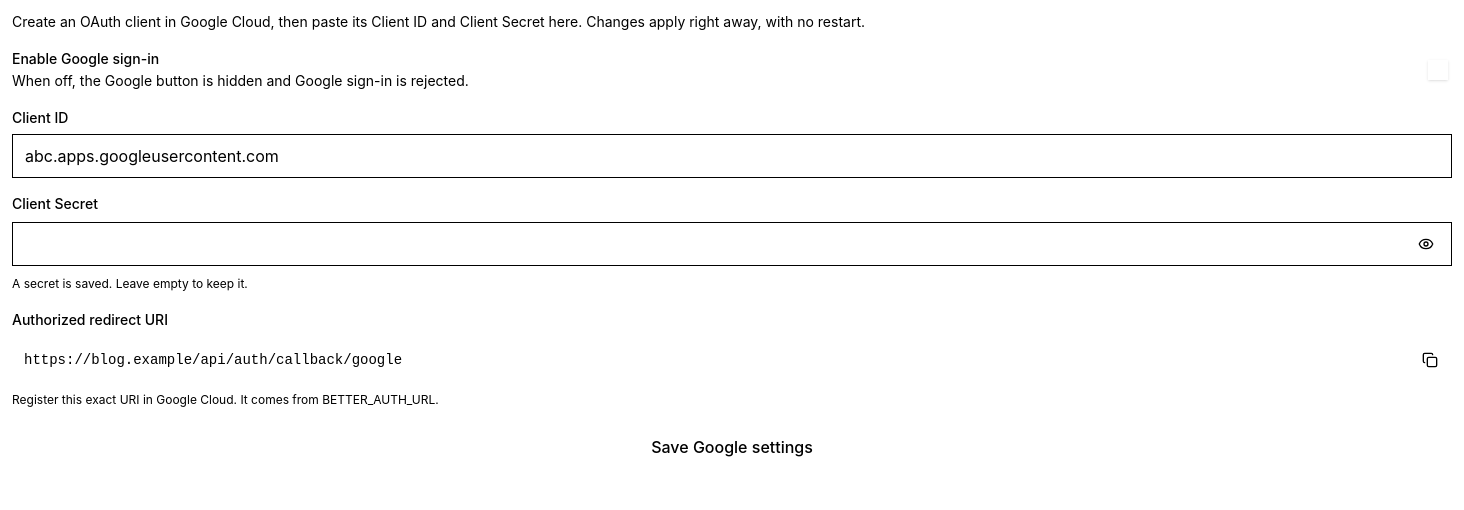
Test case: GoogleSignInSettingsForm › Given a typed secret, should send it then clear the input
Type "GOCSPX-secret" into the password field labelled "Client Secret" at (732, 244), box [12,222,1452,266]
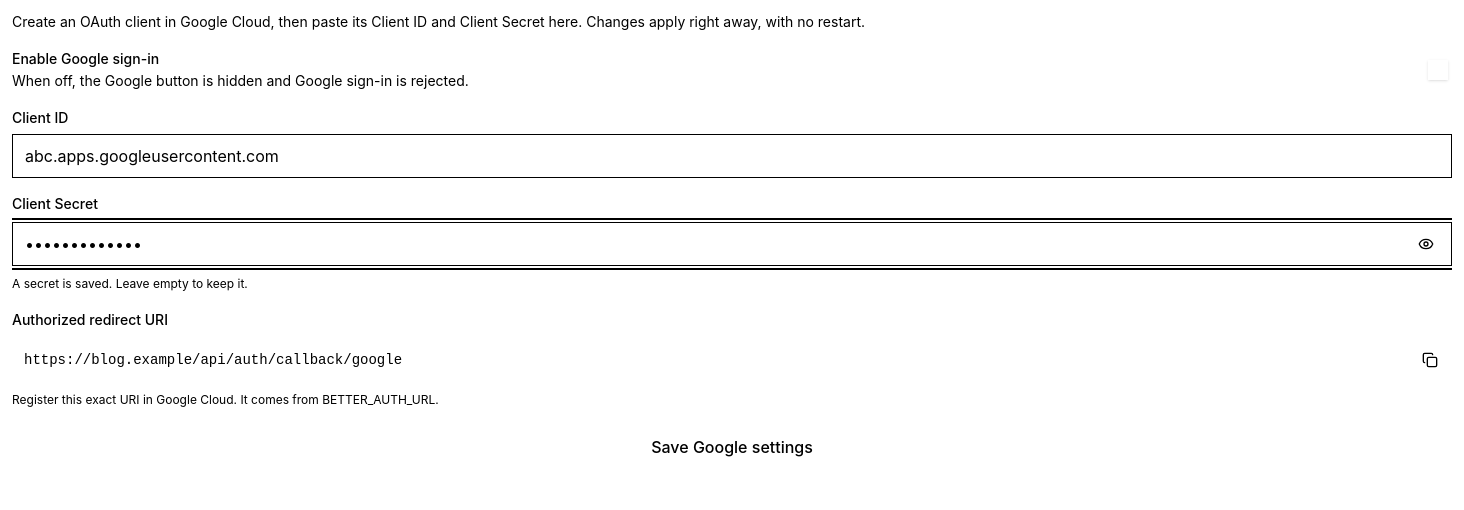
Click the button "Save Google settings" at (732, 447), box [12,425,1452,469]
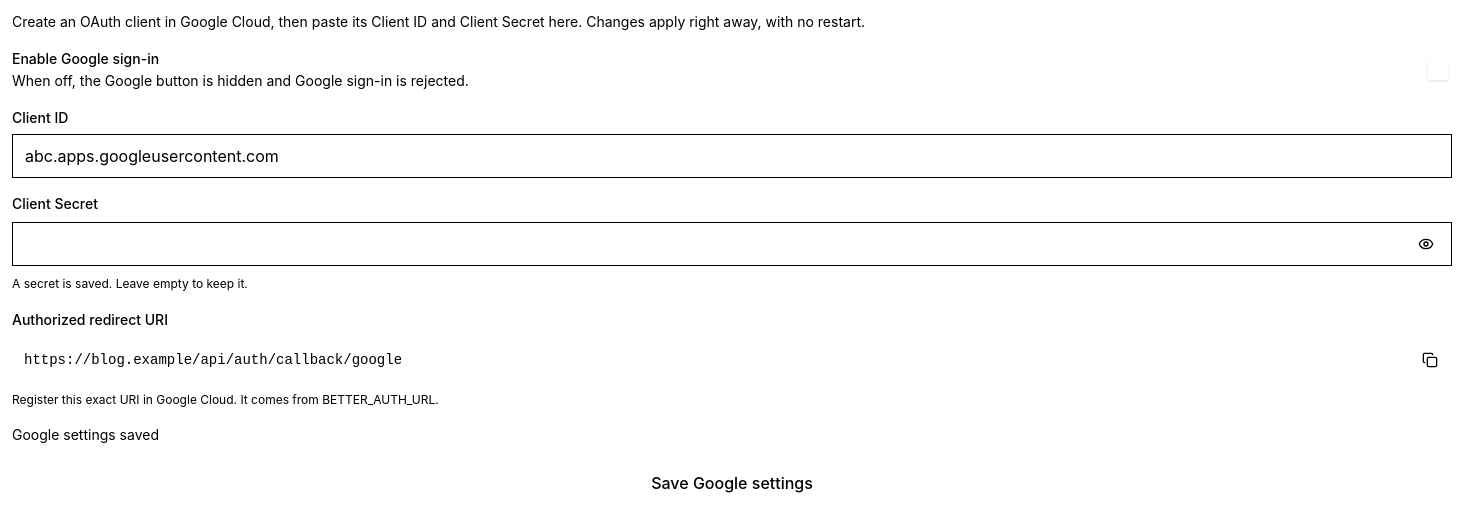
Expected: the text "Google settings saved" is shown, [12,426,159,443]
Expected: the password field labelled "Client Secret" is empty, [12,222,1452,266]
